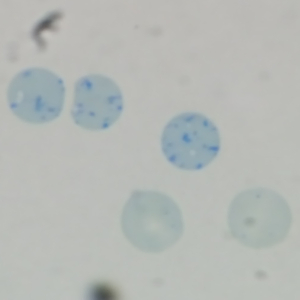aggregate reticulocyte: (159, 111, 223, 173), (4, 66, 68, 126), (67, 72, 126, 133)
punctate reticulocyte: (118, 188, 185, 256), (226, 185, 292, 252)
